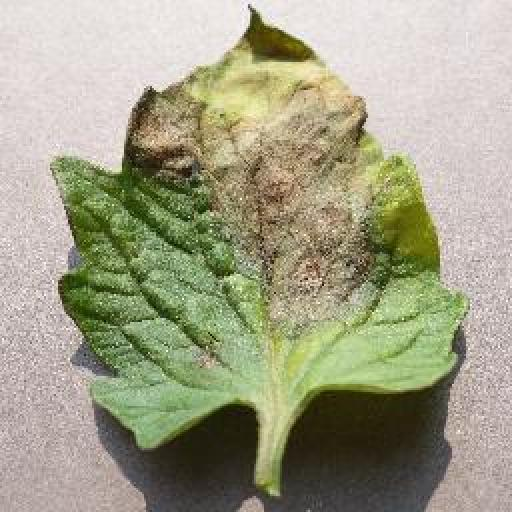Late Blight: (52, 6, 473, 450)
